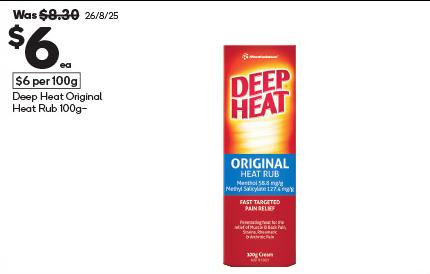description_block: (9, 91, 116, 120)
price_main: (2, 22, 97, 72)
product_image_block: (212, 37, 314, 270)
promo_text_block: (7, 5, 122, 21)
unit_price_block: (7, 70, 94, 89)
